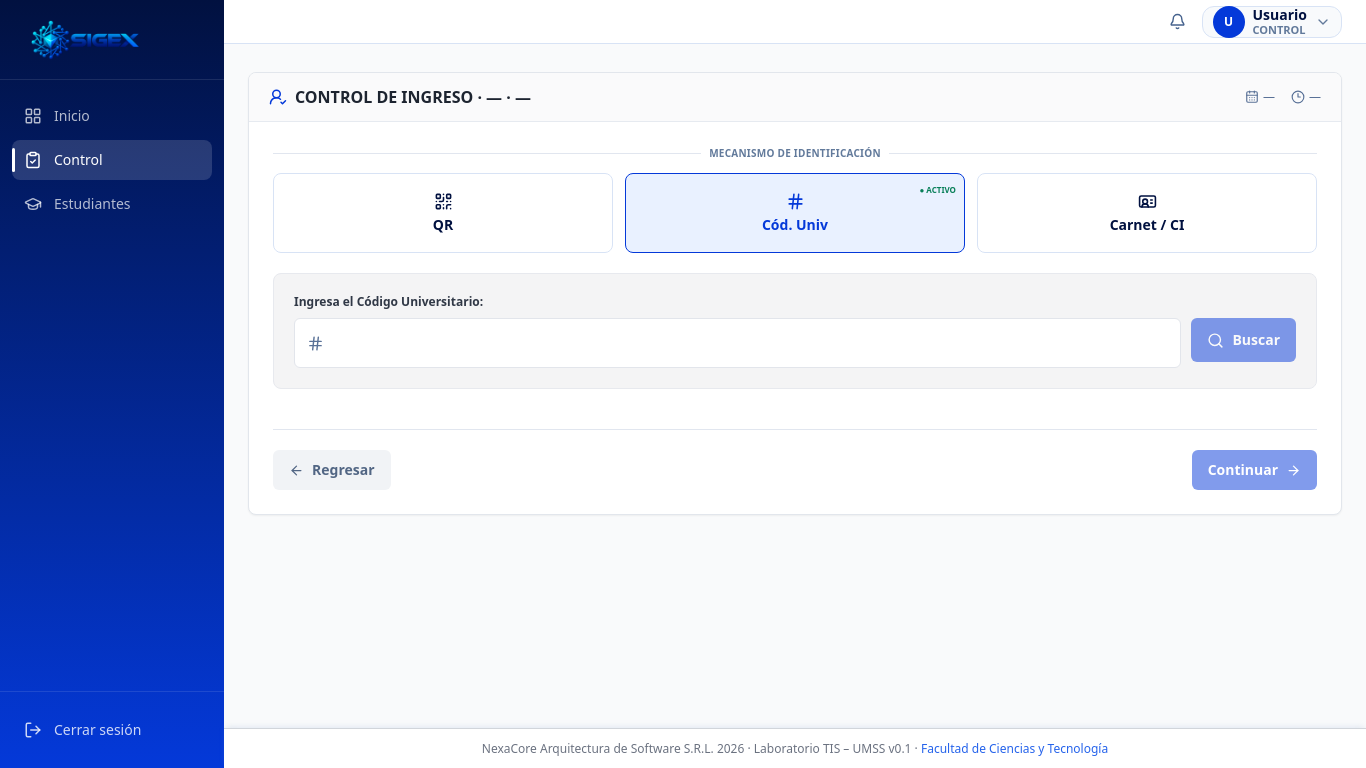
Test: Identificación por QR › muestra un mensaje claro si no hay HTTPS
What coordinates should you click on to do the following:
click the button "QR"
I would click on:
 (443, 213)
Its box is [273,173,613,253].
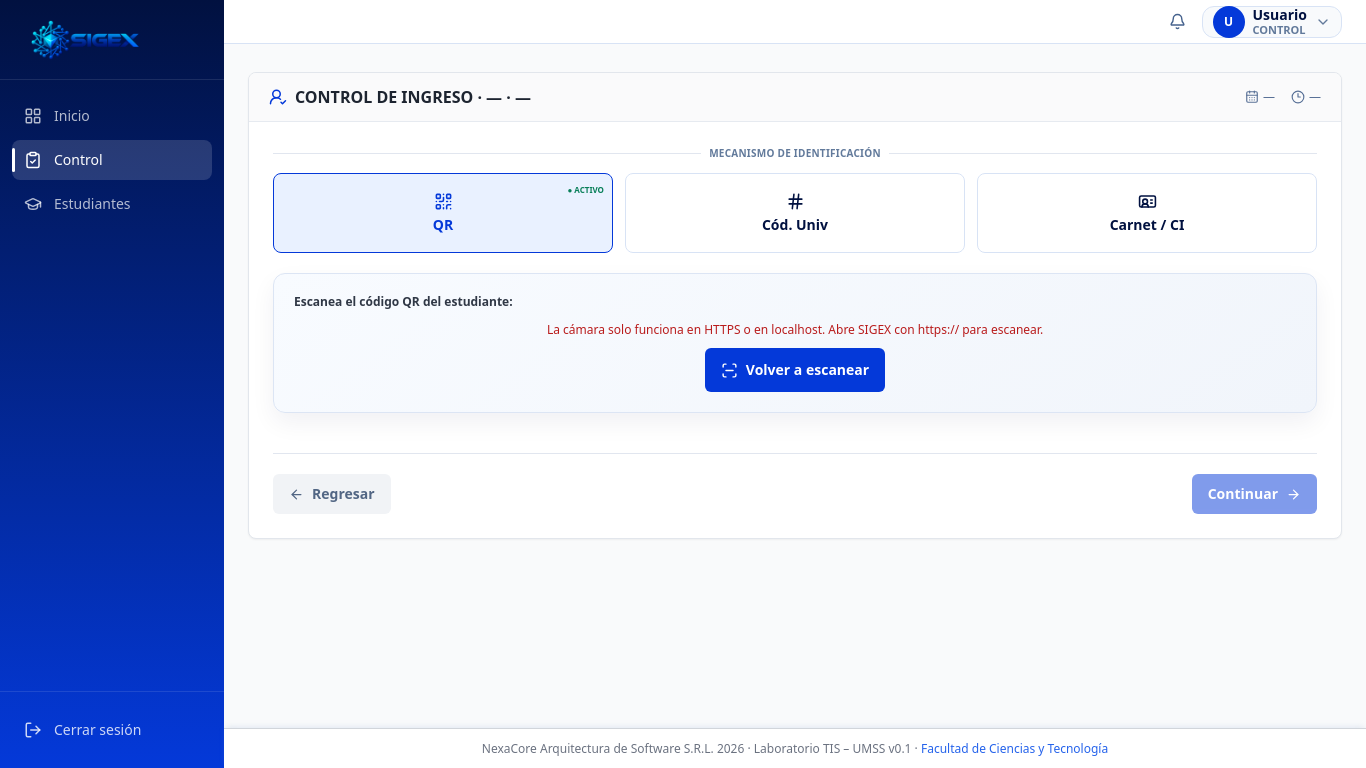
Check: the message shows "La cámara solo funciona en HTTPS o en localhost. Abre SIGEX con https:// para escanear.", box [547,321,1043,338]
Check: the button "Volver a escanear" is shown, box [705,348,885,392]
